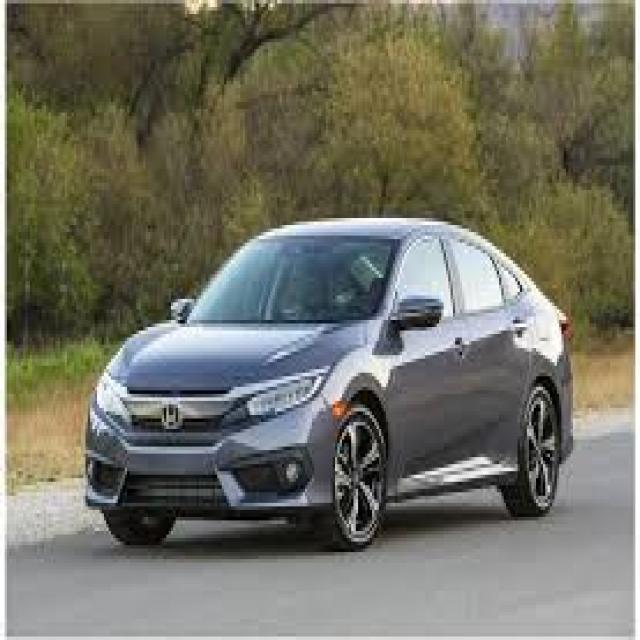Car: (81, 209, 582, 564)
